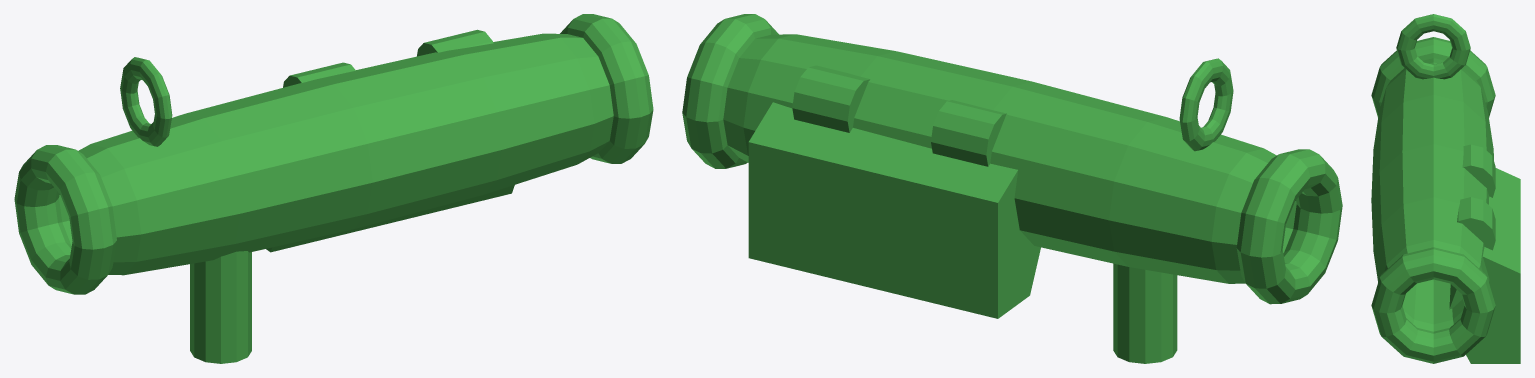
File: Colorfull Bazooka.obj
The picture shows the model from 3 angles, left to right: view 1: azimuth 30°, elevation 25°; view 2: azimuth 150°, elevation 25°; view 3: azimuth 270°, elevation 25°; orthographic projection. The views are drawn at different scales.
Parts seen in each view (by area): view 1: group450594582, group506402075, group994837827, group977660613, group1065459599, group168758296, group842489828, group1849940737; view 2: group450594582, group168758296, group506402075, group977660613, group994837827, group842489828, group1849940737, group1065459599; view 3: group450594582, group977660613, group168758296, group1065459599, group506402075, group842489828, group1849940737.
Part boxes in pixels (x1,y1,x2,y2): group450594582: (59, 33, 613, 275); group506402075: (14, 145, 116, 294); group994837827: (190, 251, 251, 363); group977660613: (560, 14, 653, 163); group1065459599: (120, 57, 172, 146); group168758296: (266, 185, 514, 252); group842489828: (417, 29, 493, 56); group1849940737: (283, 62, 355, 87); group450594582: (723, 34, 1296, 283); group168758296: (748, 102, 1040, 318); group506402075: (1236, 149, 1342, 304); group977660613: (682, 14, 778, 168); group994837827: (1113, 263, 1177, 363); group842489828: (792, 65, 870, 132); group1849940737: (931, 100, 1006, 166); group1065459599: (1179, 58, 1233, 151); group450594582: (1371, 58, 1493, 331); group977660613: (1371, 247, 1495, 363); group168758296: (1449, 168, 1520, 363); group1065459599: (1396, 14, 1470, 79); group506402075: (1371, 37, 1495, 117); group842489828: (1457, 197, 1495, 250); group1849940737: (1462, 144, 1495, 197).
Bounding box in the file's own units: 0.215 × 0.1075 × 0.06.
